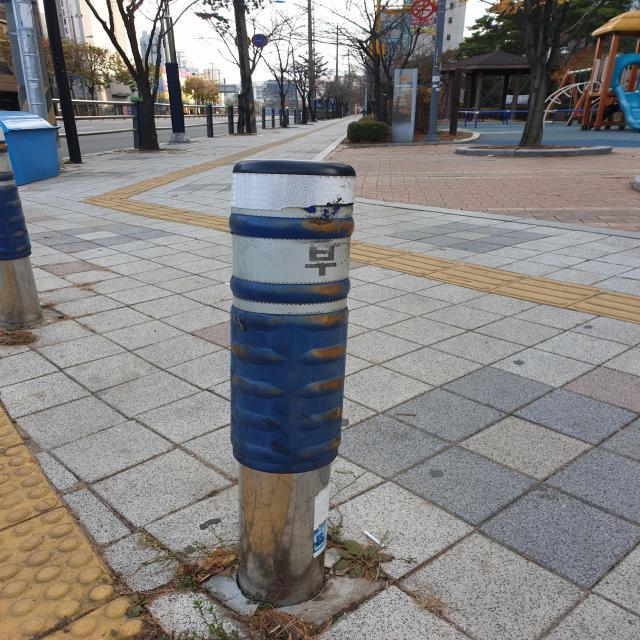pole: (223, 156, 360, 610)
